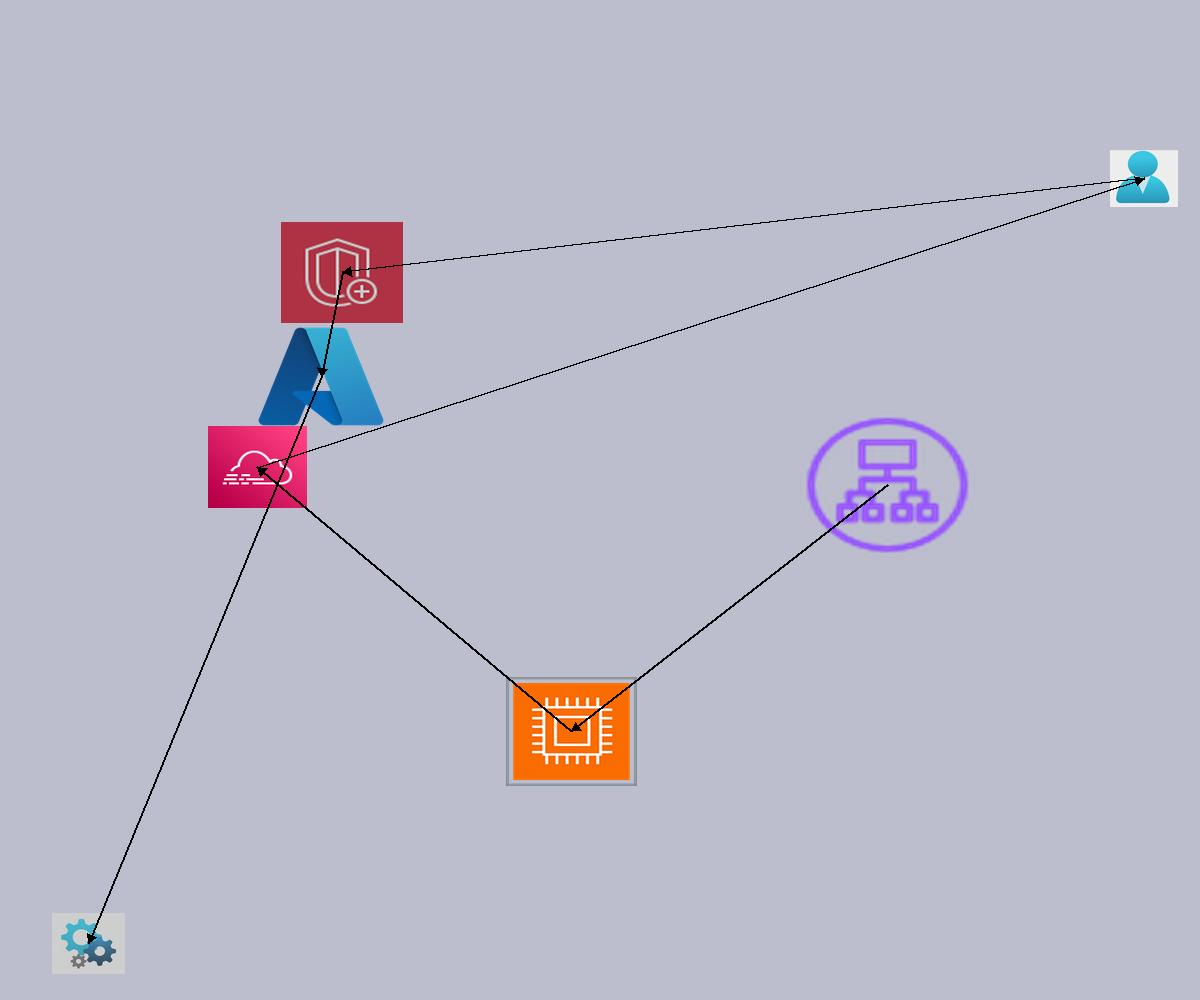AWS-Category_Compute: (506, 677, 637, 786)
AWS-CloudTrail: (208, 426, 307, 508)
AWS-Res_Elastic-Load-Balancing_Application-Load-Balancer: (800, 412, 975, 558)
AWS-Shield: (281, 222, 403, 323)
Azure_api: (52, 913, 125, 974)
Azure_services: (253, 320, 389, 433)
Azure_users: (1110, 150, 1178, 207)
